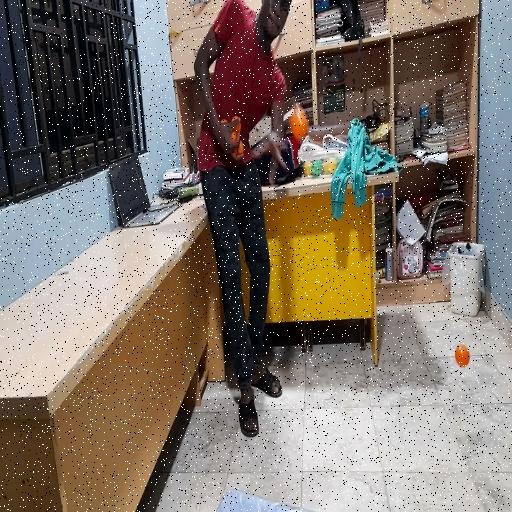plastic-ball: (289, 103, 309, 141)
